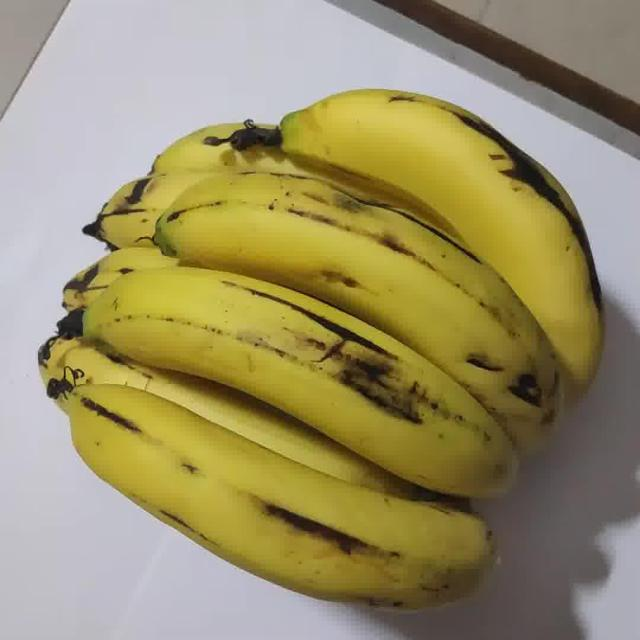Banana: (39, 89, 601, 609)
